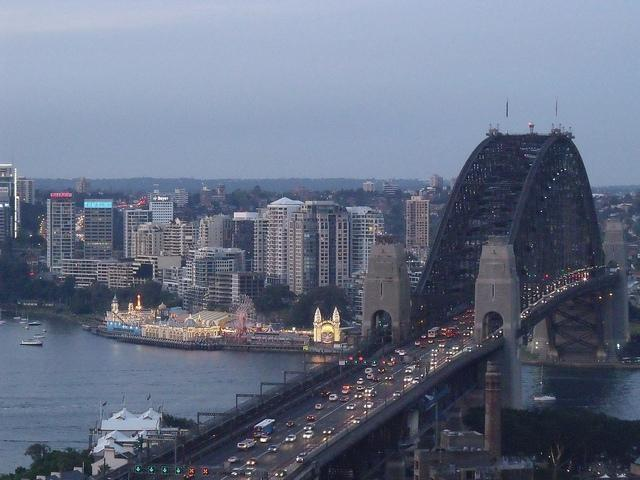bus: (254, 418, 278, 438), (427, 326, 441, 339), (446, 327, 458, 336)
car: (304, 428, 316, 440), (285, 434, 298, 444), (361, 402, 375, 411), (260, 436, 272, 443), (306, 414, 318, 421), (362, 366, 372, 374), (346, 402, 356, 410), (328, 394, 338, 401), (354, 391, 364, 398), (314, 404, 324, 410), (392, 391, 402, 396), (322, 390, 329, 396)
truck: (253, 419, 274, 438), (237, 438, 258, 450), (404, 350, 416, 363), (446, 326, 458, 338), (342, 385, 351, 394), (329, 394, 338, 402), (366, 373, 376, 380)
